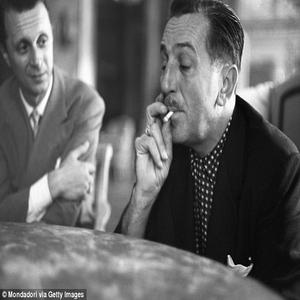cigarette: (163, 109, 173, 124)
